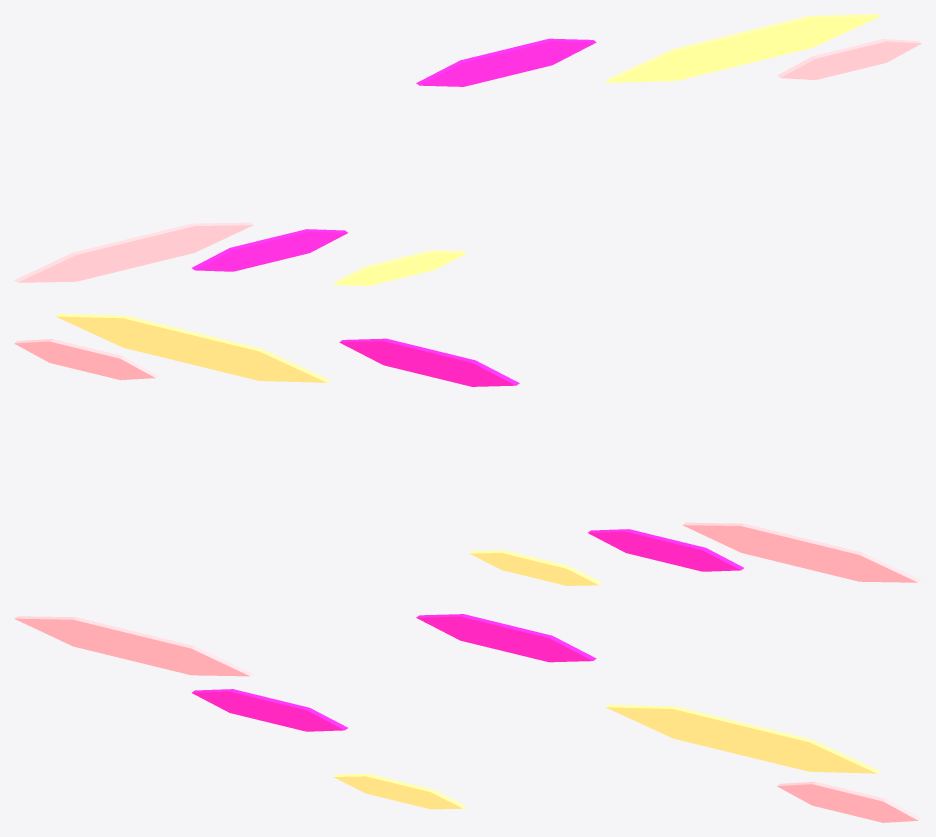
The model's file is clouds.glb.
3 views of the same model, one above another, from view 1: azimuth 30°, elevation 25°; view 2: azimuth 150°, elevation 25°; view 3: azimuth 330°, elevation 25° (orthographic).
Parts seen in each view (by area): view 1: Cloud2, Cloud0, Cloud4, Cloud1, Cloud3, Cloud5; view 2: Cloud2, Cloud0, Cloud4, Cloud1, Cloud3, Cloud5; view 3: Cloud2, Cloud0, Cloud4, Cloud1, Cloud3, Cloud5.
Part boxes in pixels (x1,y1,x2,y2): Cloud2: (605, 14, 880, 82); Cloud0: (14, 222, 253, 282); Cloud4: (416, 38, 596, 86); Cloud1: (192, 229, 347, 271); Cloud3: (777, 39, 921, 80); Cloud5: (333, 250, 466, 285); Cloud2: (55, 314, 330, 382); Cloud0: (682, 522, 921, 582); Cloud4: (339, 338, 519, 386); Cloud1: (588, 529, 743, 571); Cloud3: (14, 339, 158, 380); Cloud5: (469, 550, 602, 585); Cloud2: (605, 704, 880, 773); Cloud0: (14, 616, 253, 676); Cloud4: (416, 614, 596, 662); Cloud1: (191, 689, 347, 731); Cloud3: (777, 781, 921, 822); Cloud5: (334, 774, 466, 809).
Size of the model in its own units: 15.3 by 3.23 by 0.1.
